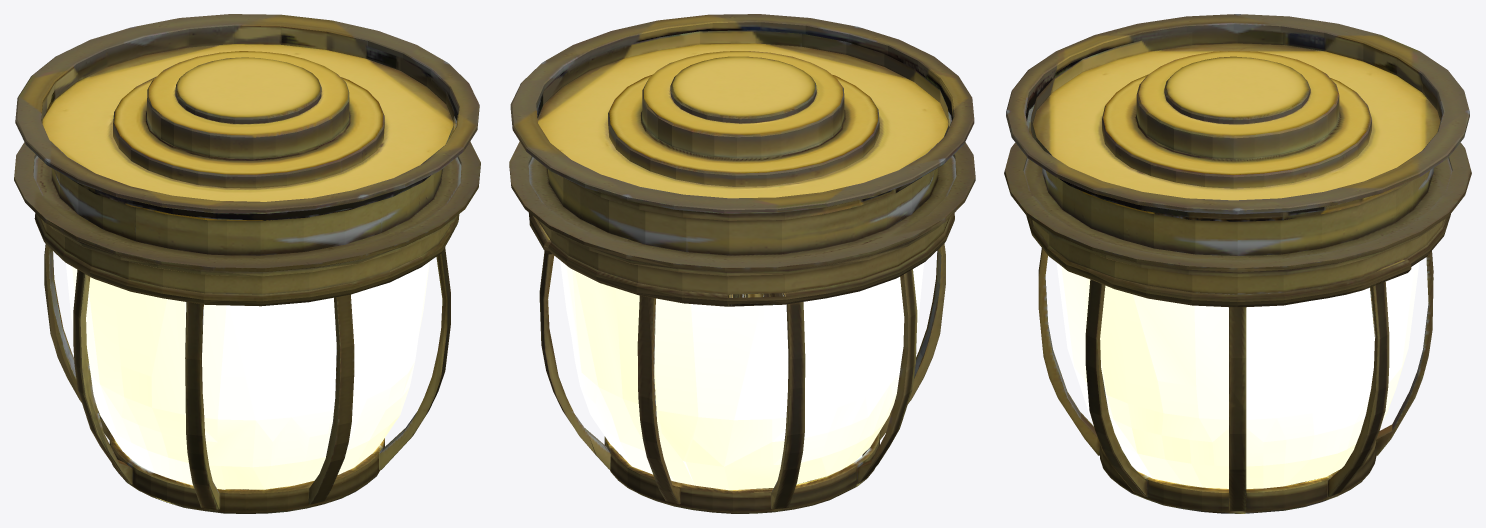
The model's file is Lamp_Ceiling.glb.
3 views of the same model, side by side, from view 1: azimuth 30°, elevation 25°; view 2: azimuth 150°, elevation 25°; view 3: azimuth 270°, elevation 25° (orthographic).
Visible parts, largest first — view 1: Lamp_Ceiling_M; view 2: Lamp_Ceiling_M; view 3: Lamp_Ceiling_M.
Boxes of the visible parts, x1,y1,x2,y2 form: Lamp_Ceiling_M: (14, 14, 480, 513); Lamp_Ceiling_M: (509, 14, 975, 513); Lamp_Ceiling_M: (1004, 14, 1471, 513).
Size of the model in its own units: 0.34 by 0.34 by 0.34.
Materials: 2 (1 with a texture image).
